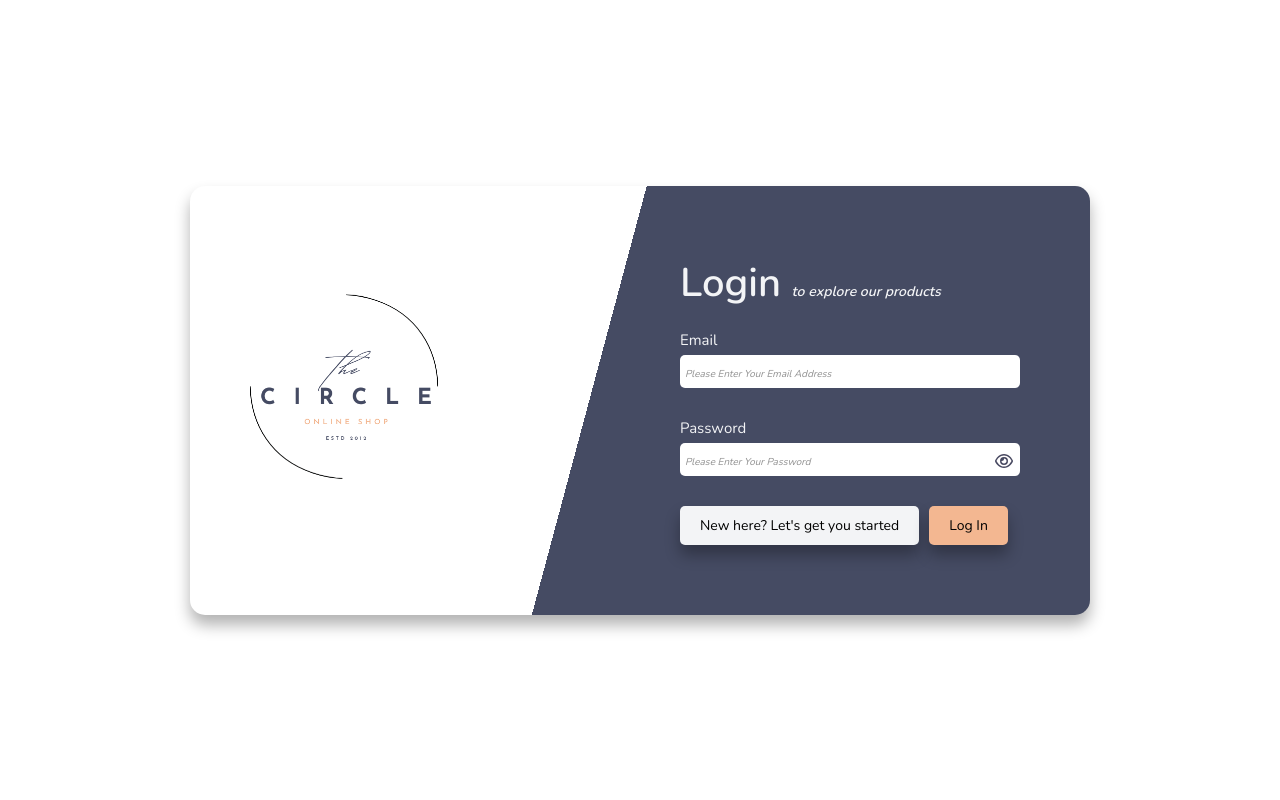
Test: login-tests › when user click for sign up page button
Click the link "New here? Let's get you started" at [800, 525], box [680, 506, 919, 544]
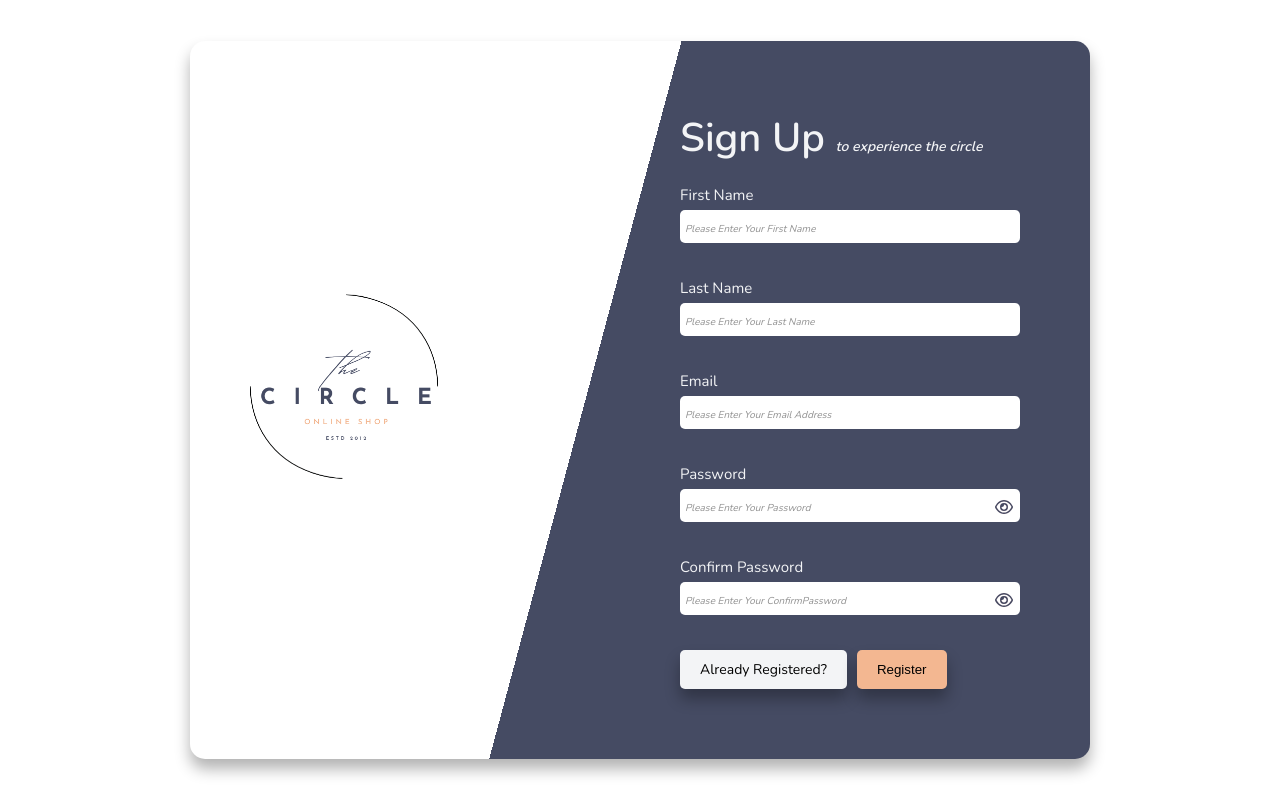
Check: the heading "Sign Up to experience the circle" is shown, box [680, 111, 1020, 165]
